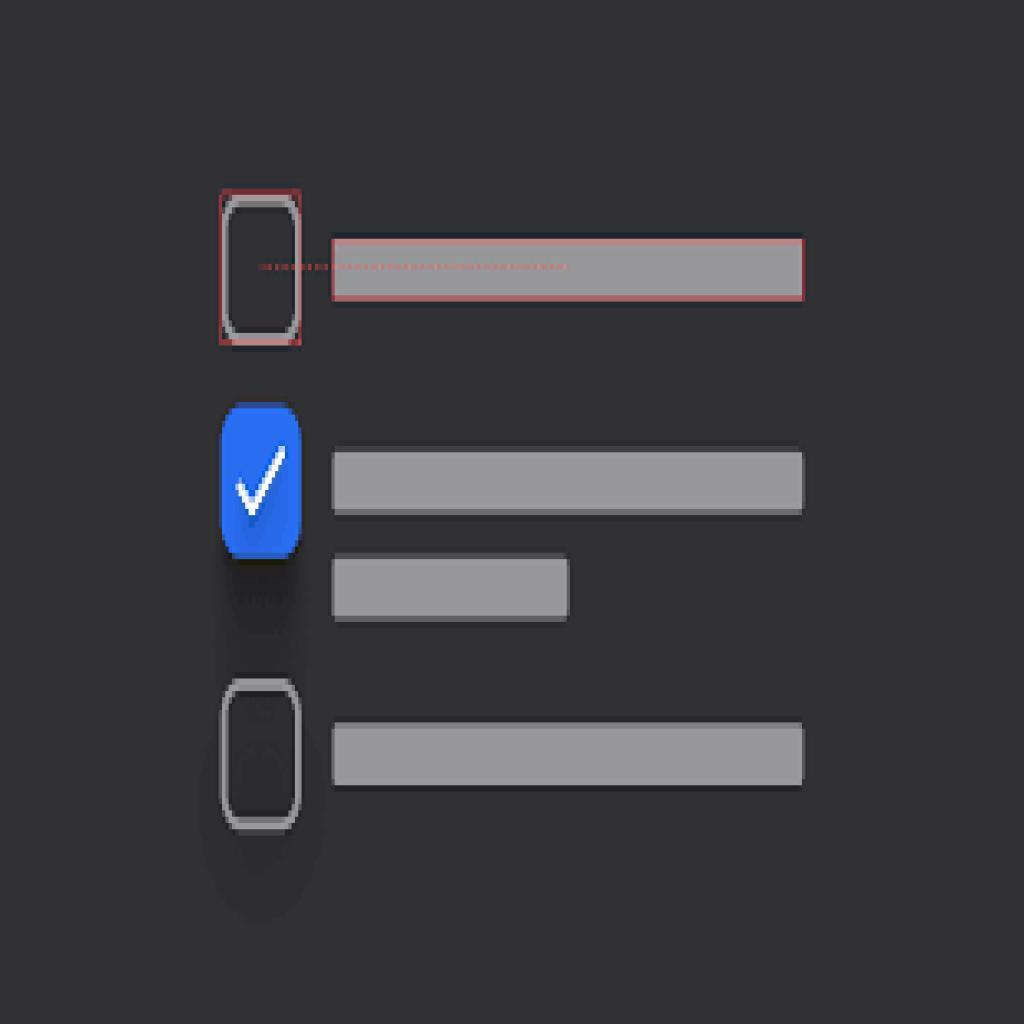checkbox: (219, 189, 304, 347), (221, 402, 301, 561), (220, 680, 302, 831)
